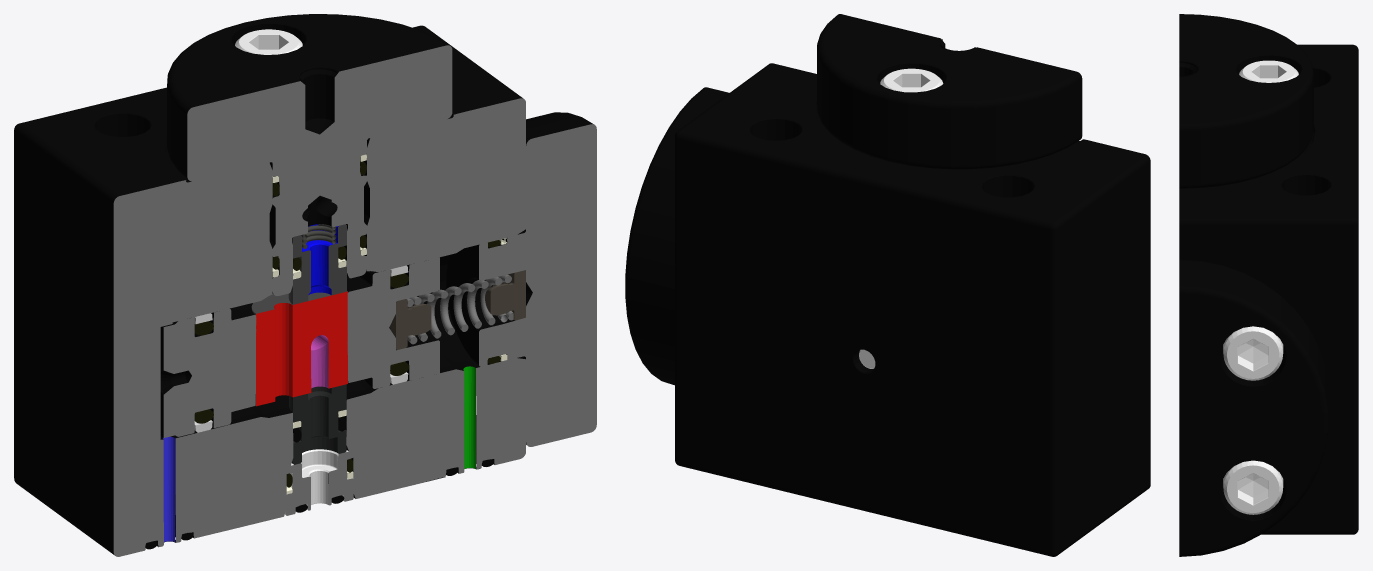
File: Cutout part.fbx
3 views of the same model, side by side, from view 1: azimuth 30°, elevation 25°; view 2: azimuth 150°, elevation 25°; view 3: azimuth 270°, elevation 25° (orthographic). The views are drawn at different scales.
Visible parts, largest first — view 1: Object008, 6A6EB52D1EF8D8A4F170AB813CC0111D5F7B6B57|:|B8A4396250C5687B1, 72D59B781EFE63B285CF8FF0D1669D60EC0BDDDC|:|B8A4396250C5687B1, Object004, C788D85F6F0534455BB6E98E058C7C3D360DADC6|:|B8A4396250C5687B1, FA7C5A170AC019F40E12129160F3B647B181C635|:|B8A4396250C5687B1, 262FF807264E932EC2199C78FC4FA4F24197F87B|:|B8A4396250C5687B1 (×2), 1D98F85C1D5F13AA3366EE3F154E0C5C9E1B7E4F|:|B8A4396250C5687B1, EF25491CBDDC31FDFA4E39406598C696E1F11B14|:|B8A4396250C5687B1, Object016, Object014, 211C28939AEC3CC59E497B4D9F4313076D2F3B38|:|B8A4396250C5687B1 (+3 smaller); view 2: 6A6EB52D1EF8D8A4F170AB813CC0111D5F7B6B57|:|B8A4396250C5687B1, 72D59B781EFE63B285CF8FF0D1669D60EC0BDDDC|:|B8A4396250C5687B1, C788D85F6F0534455BB6E98E058C7C3D360DADC6|:|B8A4396250C5687B1, 0EB1442002DB36F084E66A7506ECCB885BC11D84|:|B8A4396250C5687B1; view 3: 6A6EB52D1EF8D8A4F170AB813CC0111D5F7B6B57|:|B8A4396250C5687B1, C788D85F6F0534455BB6E98E058C7C3D360DADC6|:|B8A4396250C5687B1, 72D59B781EFE63B285CF8FF0D1669D60EC0BDDDC|:|B8A4396250C5687B1, 0EB1442002DB36F084E66A7506ECCB885BC11D84|:|B8A4396250C5687B1 (×3).
Part boxes in pixels (<box>): Object008: <box>113,45,596,556</box>; 6A6EB52D1EF8D8A4F170AB813CC0111D5F7B6B57|:|B8A4396250C5687B1: <box>14,25,525,554</box>; 72D59B781EFE63B285CF8FF0D1669D60EC0BDDDC|:|B8A4396250C5687B1: <box>167,14,448,293</box>; Object004: <box>256,291,347,406</box>; C788D85F6F0534455BB6E98E058C7C3D360DADC6|:|B8A4396250C5687B1: <box>446,112,593,444</box>; FA7C5A170AC019F40E12129160F3B647B181C635|:|B8A4396250C5687B1: <box>251,291,347,405</box>; 262FF807264E932EC2199C78FC4FA4F24197F87B|:|B8A4396250C5687B1 (×2): <box>288,224,345,463</box>; 1D98F85C1D5F13AA3366EE3F154E0C5C9E1B7E4F|:|B8A4396250C5687B1: <box>406,274,513,344</box>; EF25491CBDDC31FDFA4E39406598C696E1F11B14|:|B8A4396250C5687B1: <box>160,264,439,437</box>; Object016: <box>293,384,346,464</box>; Object014: <box>293,224,346,304</box>; 211C28939AEC3CC59E497B4D9F4313076D2F3B38|:|B8A4396250C5687B1: <box>285,449,353,514</box>; 6A6EB52D1EF8D8A4F170AB813CC0111D5F7B6B57|:|B8A4396250C5687B1: <box>675,63,1150,556</box>; 72D59B781EFE63B285CF8FF0D1669D60EC0BDDDC|:|B8A4396250C5687B1: <box>817,14,1082,169</box>; C788D85F6F0534455BB6E98E058C7C3D360DADC6|:|B8A4396250C5687B1: <box>625,87,728,385</box>; 0EB1442002DB36F084E66A7506ECCB885BC11D84|:|B8A4396250C5687B1: <box>880,68,943,92</box>; 6A6EB52D1EF8D8A4F170AB813CC0111D5F7B6B57|:|B8A4396250C5687B1: <box>1179,44,1358,534</box>; C788D85F6F0534455BB6E98E058C7C3D360DADC6|:|B8A4396250C5687B1: <box>1179,259,1328,556</box>; 72D59B781EFE63B285CF8FF0D1669D60EC0BDDDC|:|B8A4396250C5687B1: <box>1179,14,1313,188</box>; 0EB1442002DB36F084E66A7506ECCB885BC11D84|:|B8A4396250C5687B1 (×3): <box>1223,60,1298,514</box>.
Bounding box in the file's own units: 0.5294 × 0.452 × 0.1937.
